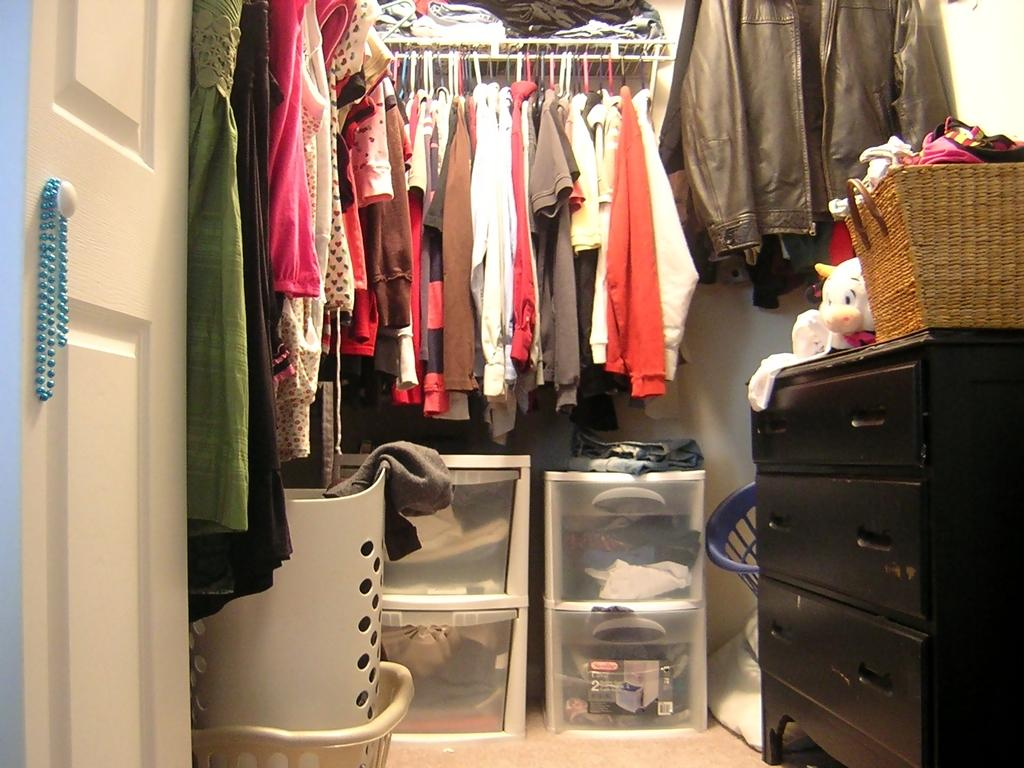cabinet_door: (761, 604, 935, 730), (758, 476, 926, 598), (390, 605, 514, 722), (558, 615, 692, 720), (558, 486, 694, 588), (764, 392, 918, 462)
handle: (374, 608, 510, 637), (588, 481, 678, 511), (592, 607, 670, 640), (852, 651, 901, 702), (854, 526, 898, 560), (48, 174, 78, 220), (759, 618, 803, 648), (760, 420, 798, 446), (850, 406, 886, 430), (762, 518, 798, 540)
